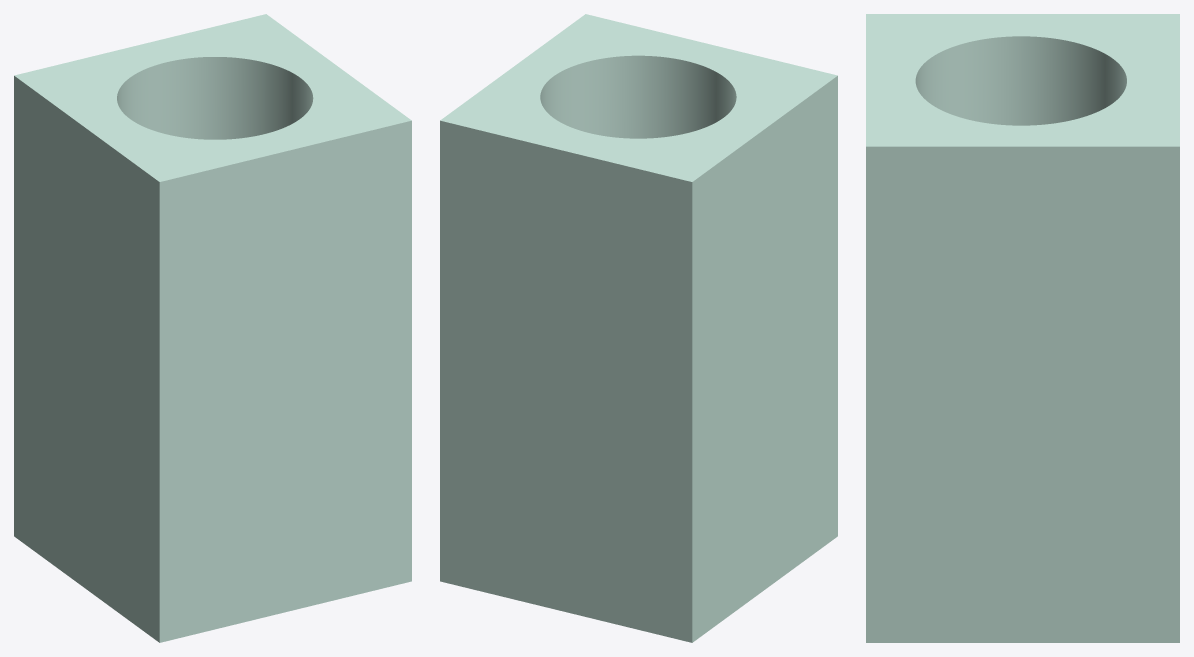
The picture shows the model from 3 angles, left to right: view 1: azimuth 30°, elevation 25°; view 2: azimuth 150°, elevation 25°; view 3: azimuth 270°, elevation 25°; orthographic projection. The views are drawn at different scales.
Parts seen in each view (by area): view 1: Renderer Node; view 2: Renderer Node; view 3: Renderer Node.
Boxes of the visible parts, x1,y1,x2,y2 form: Renderer Node: (14,14,411,642); Renderer Node: (440,14,837,642); Renderer Node: (866,14,1179,642).
Bounding box in the file's own units: 0.4297 × 0.75 × 0.4297.
